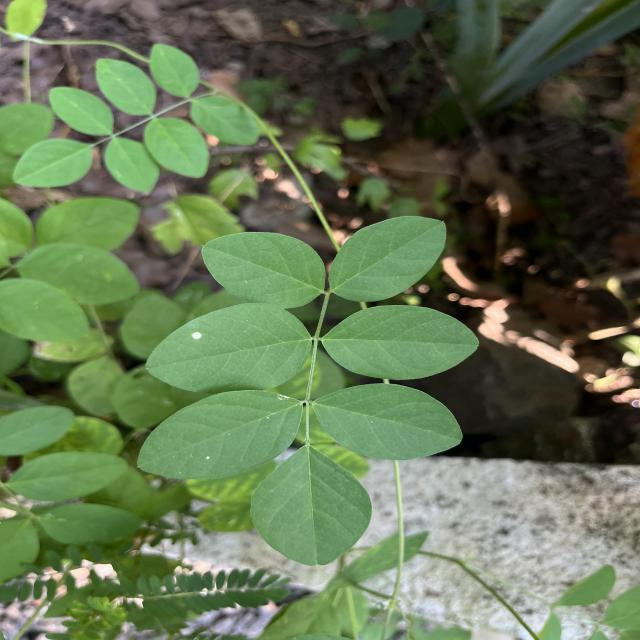Clitoria ternatea: (144, 302, 314, 397), (135, 388, 305, 481), (249, 444, 373, 566), (322, 304, 482, 381), (312, 382, 464, 461), (327, 215, 448, 303), (200, 231, 328, 310)
